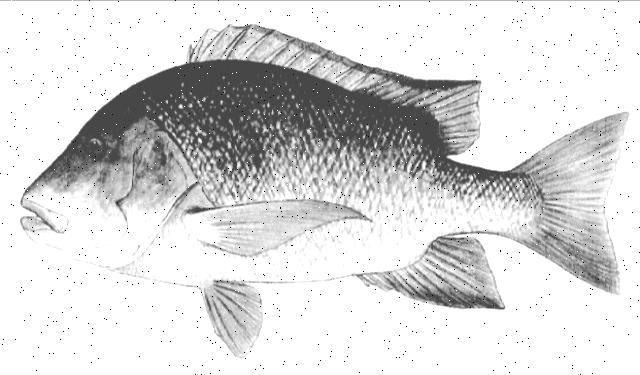Mulut: (5, 172, 76, 258)
Sirip Anal: (338, 228, 516, 324)
Sirip Dada: (172, 186, 378, 260)
Sirip Ekor: (509, 97, 635, 300)
Sirip Perut: (192, 274, 270, 362)
Sirip Punggung: (178, 10, 494, 172)
